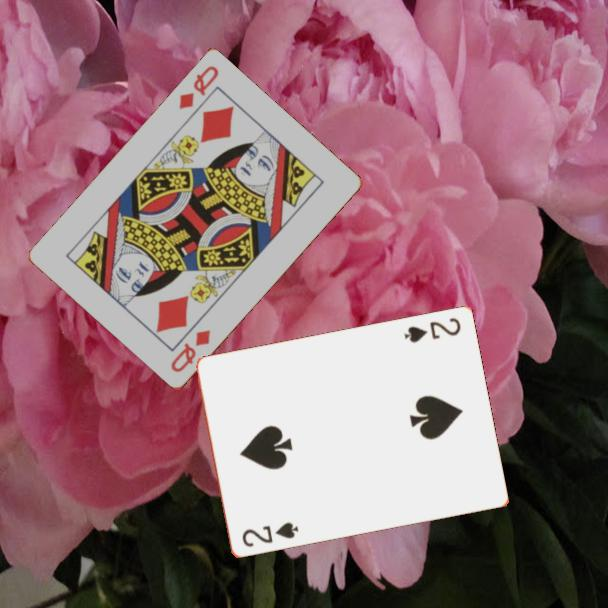d12: (175, 63, 222, 113), (167, 327, 214, 376)
s02: (238, 519, 301, 550), (401, 315, 464, 346)
